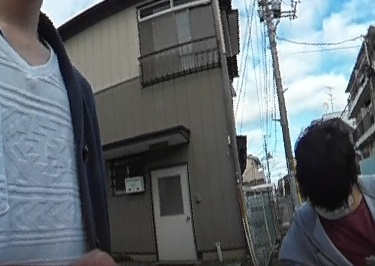person: (276, 117, 375, 266)
